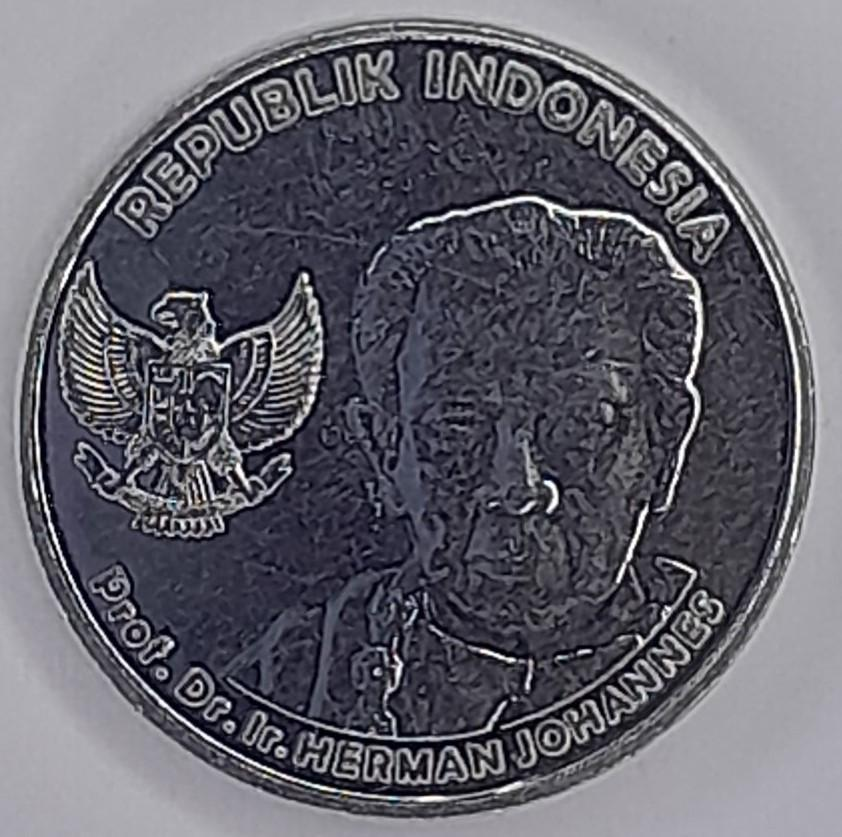coin_100_e2016: (10, 13, 822, 819)
